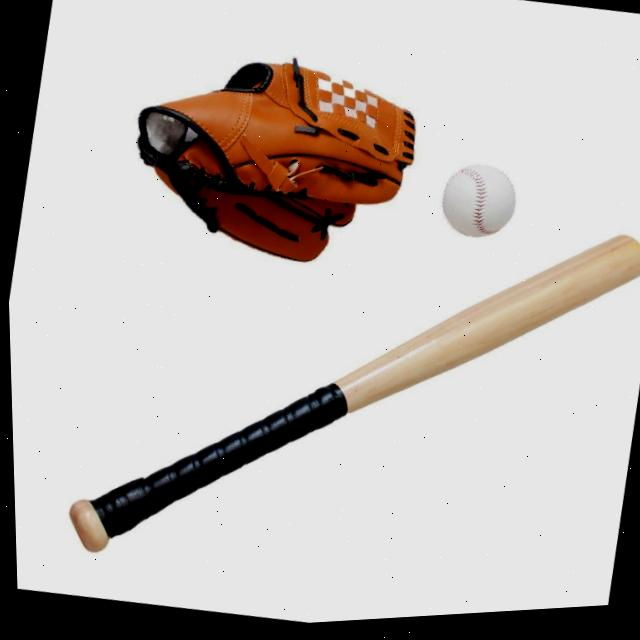baseball bat: (58, 224, 596, 633)
